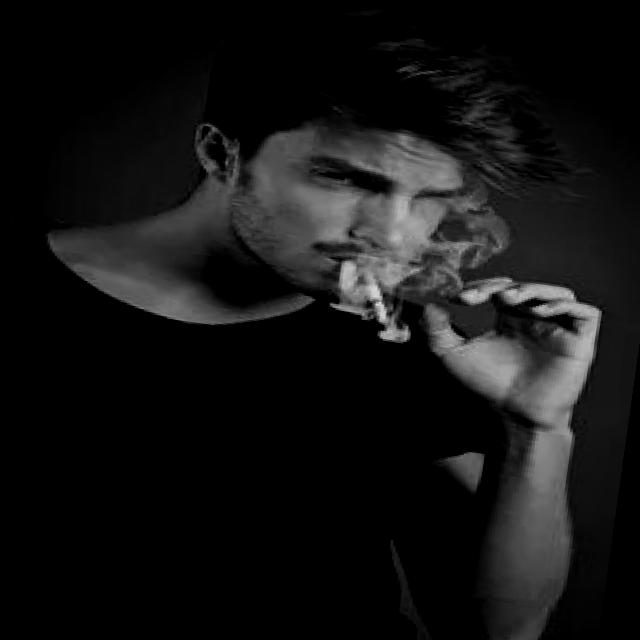smoke: (348, 258, 411, 332)
